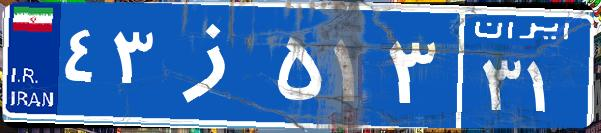1: (330, 28, 385, 110), (525, 38, 570, 115)
3: (385, 28, 445, 110), (475, 38, 525, 113), (110, 28, 158, 105)
4: (57, 26, 110, 107)
5: (273, 28, 330, 110)
ز: (158, 15, 273, 115)
